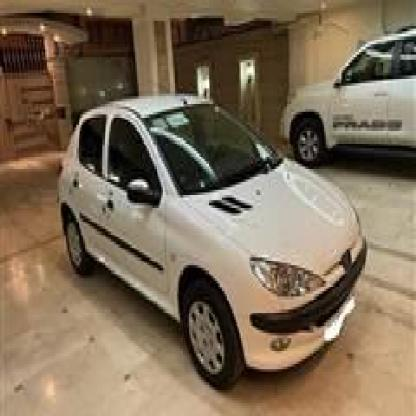Car: (56, 101, 369, 388), (277, 23, 416, 164)
